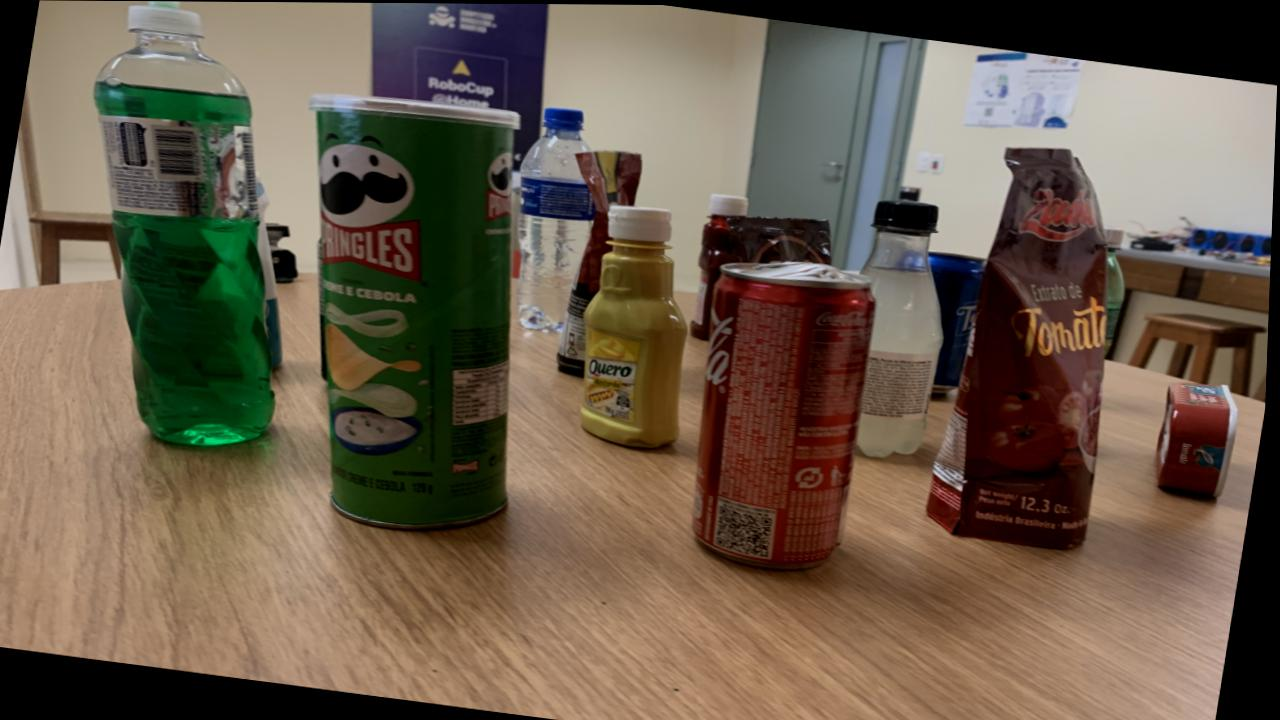Cleaner-Cleanup_Items: (257, 172, 291, 368)
Coffee-Pantry_Items: (729, 214, 834, 263)
Coke-Drinks: (695, 260, 878, 569)
Detergent-Cleanup_Items: (94, 1, 281, 446)
Guarana-Drinks: (1104, 225, 1128, 355)
Ketchup-Pantry_Items: (692, 193, 750, 339)
Mustard-Pantry_Items: (584, 204, 690, 448)
Pringles-Snacks: (311, 93, 521, 529)
Soda-Drinks: (860, 198, 946, 456)
Tomato_Sauce-Pantry_Items: (930, 146, 1111, 547), (559, 149, 643, 375)
Tonic-Drinks: (930, 249, 988, 398), (554, 111, 559, 117)
Tuna_Can-Pantry_Items: (1159, 381, 1242, 495)
Water_Bottle-Drinks: (518, 107, 597, 331)
